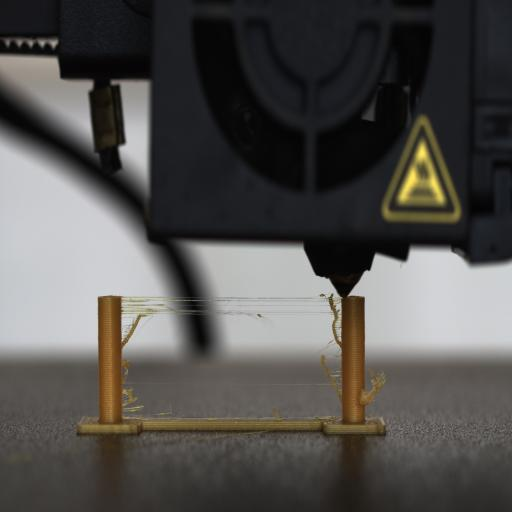stringing: (120, 296, 344, 316), (320, 355, 342, 407), (360, 368, 388, 408), (122, 313, 143, 353), (121, 385, 146, 415), (329, 319, 343, 354), (122, 357, 132, 383)
